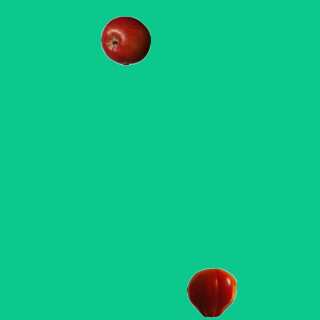Apple Braeburn: (100, 15, 150, 65)
Tomato 1: (186, 267, 236, 317)
